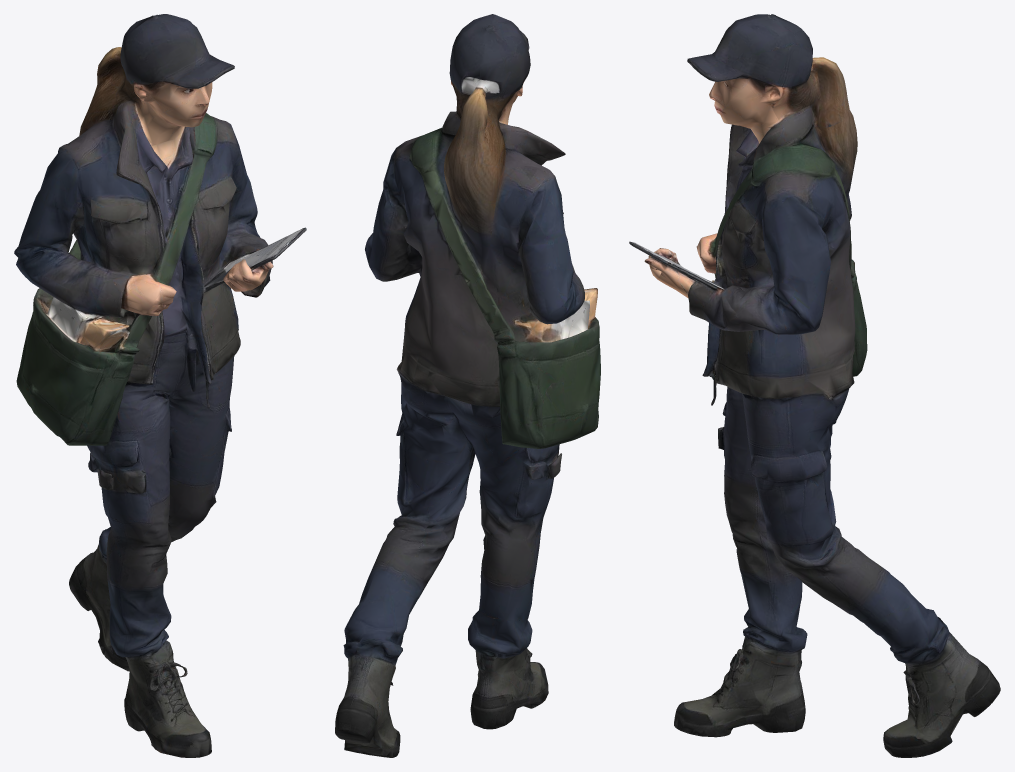
Rendered from tecnico.glb.
The picture shows the model from 3 angles, left to right: view 1: azimuth 30°, elevation 25°; view 2: azimuth 150°, elevation 25°; view 3: azimuth 270°, elevation 25°; orthographic projection. The views are drawn at different scales.
Visible parts, largest first — view 1: mesh_0; view 2: mesh_0; view 3: mesh_0.
Boxes of the visible parts, bbox=[...] form: mesh_0: bbox=[14, 14, 306, 757]; mesh_0: bbox=[335, 14, 600, 757]; mesh_0: bbox=[629, 14, 1000, 757].
Bounding box in the file's own units: 0.627 × 1.9 × 0.8941.
1 material, 1 textured.
